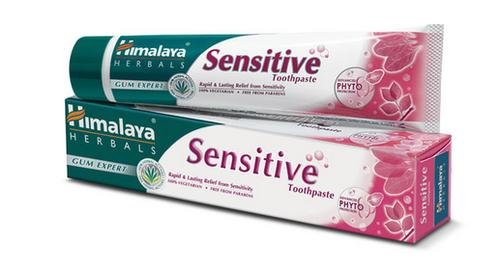toothpaste: (65, 85, 461, 248), (64, 22, 453, 135)
